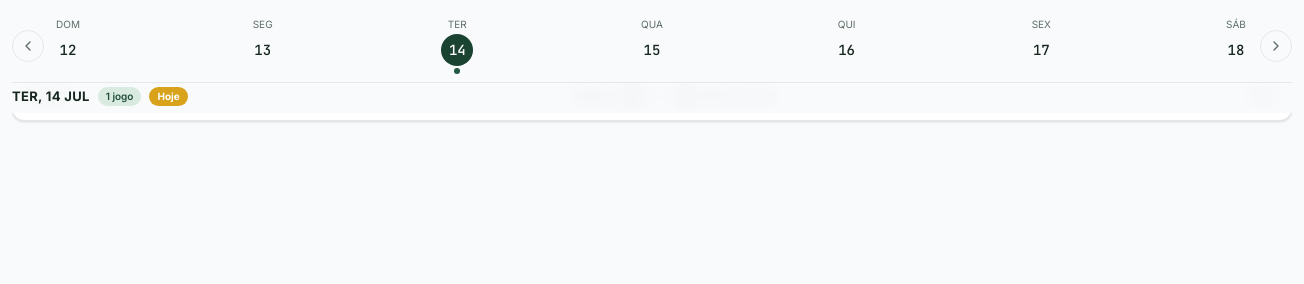
Scenario: CalendarioContent › clicar de novo no dia já selecionado desfaz a seleção (toggle)
Step 1. Click the button "Dom 12" → (68, 46), box [48,17,88,74]
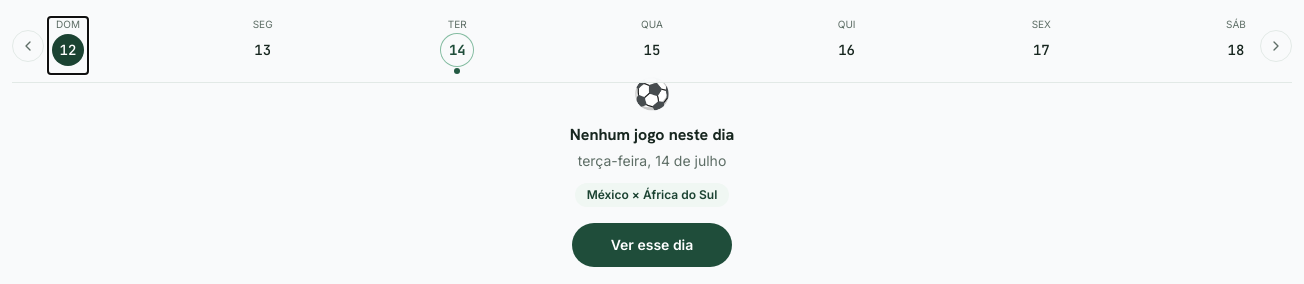
Check: the text "Nenhum jogo neste dia" is shown, box [570,123,734,147]
Step 2. Click the button "Dom 12" → (68, 46), box [48,17,88,74]
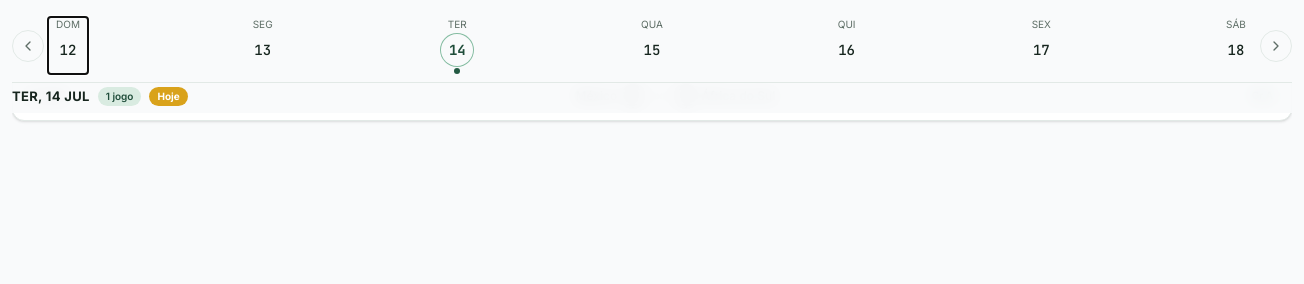
Check: the text "Nenhum jogo neste dia" is gone
